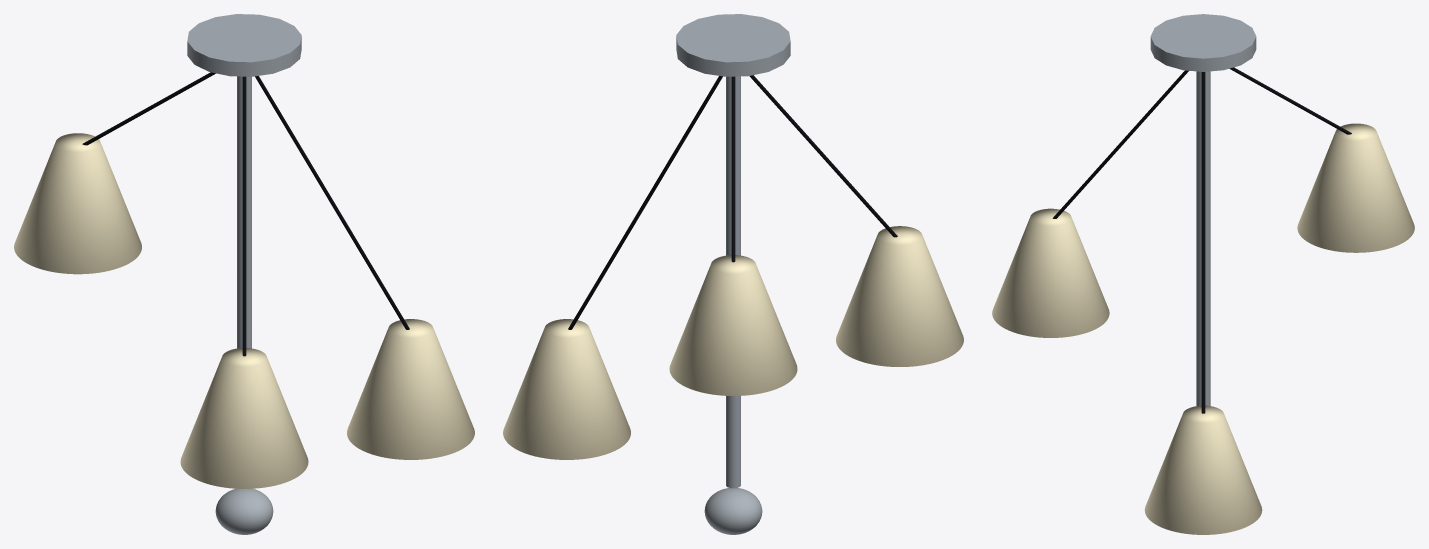
File: Csillar_fuggesztek_3.obj
3 views of the same model, side by side, from view 1: azimuth 30°, elevation 25°; view 2: azimuth 150°, elevation 25°; view 3: azimuth 270°, elevation 25° (orthographic). The views are drawn at different scales.
Bounding box in the file's own units: 0.65 × 0.85 × 0.7196.
